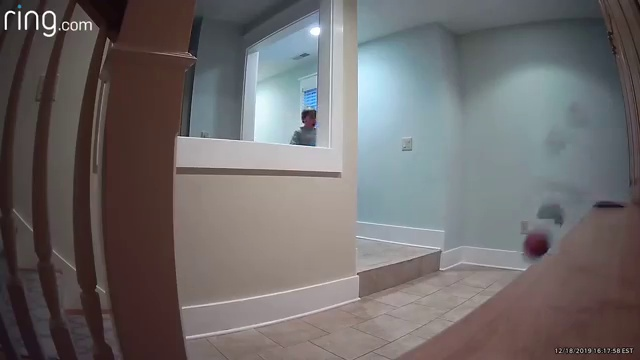face: (304, 112, 317, 127)
